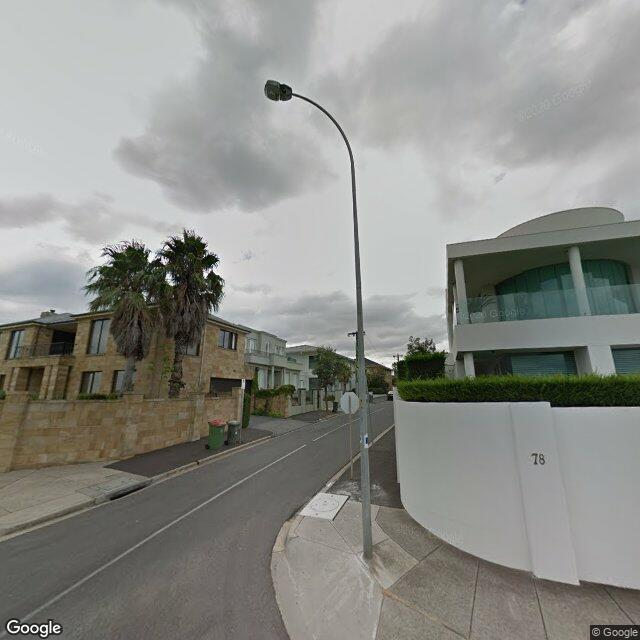steel-pole: (351, 158, 373, 558)
streetlight: (263, 80, 352, 160)
